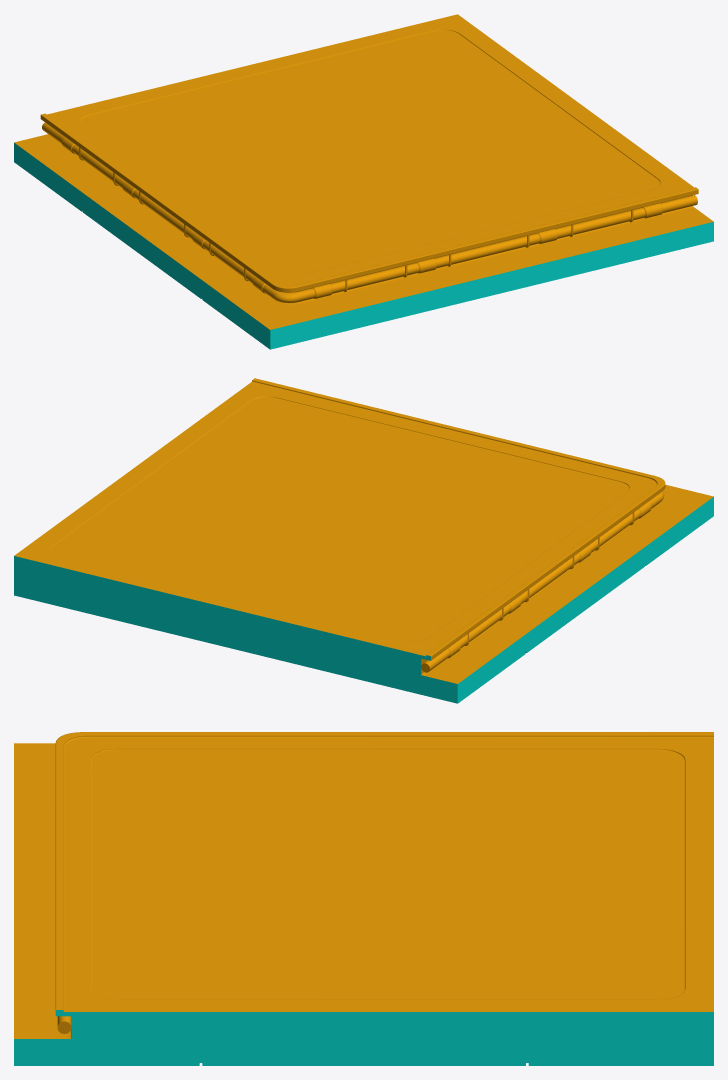
Rendered from Floor01.fbx.
The picture shows the model from 3 angles, top to bottom: view 1: azimuth 30°, elevation 25°; view 2: azimuth 150°, elevation 25°; view 3: azimuth 270°, elevation 25°; orthographic projection. The views are drawn at different scales.
Visible parts, largest first — view 1: SM_Floor01; view 2: SM_Floor01; view 3: SM_Floor01.
Boxes of the visible parts, x1,y1,x2,y2 form: SM_Floor01: (14,14,713,349); SM_Floor01: (14,378,713,703); SM_Floor01: (14,732,713,1065).
Bounding box in the file's own units: 3.5 × 0.309 × 3.5.
